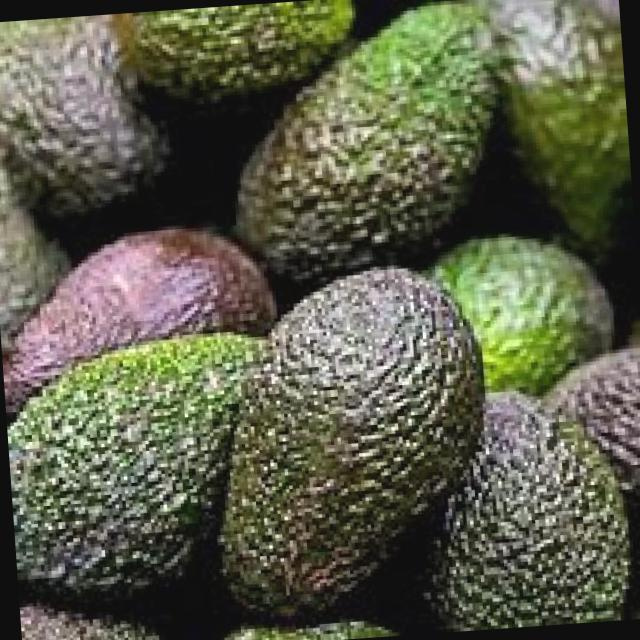avocado: (188, 270, 498, 625), (215, 0, 545, 288), (1, 318, 300, 602)
